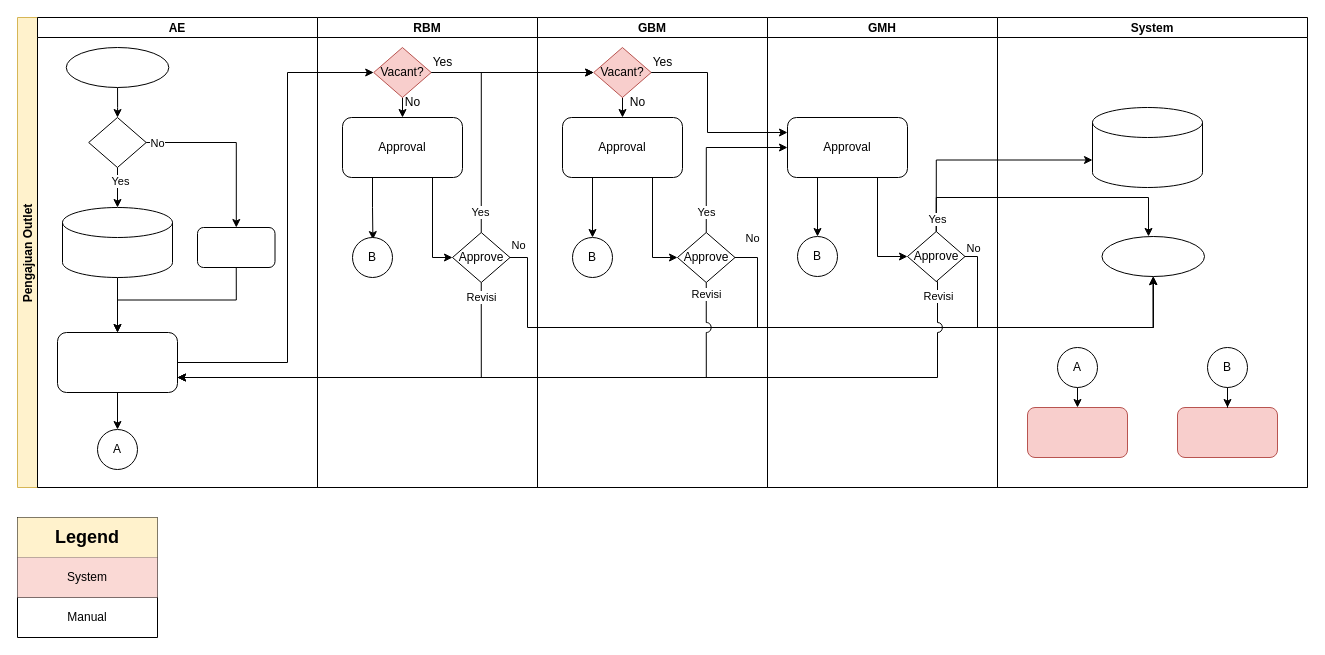
Some shapes in this 1325 by 655 pixel diagram are drawn without their labels. Each missing label, with the centre of its shape:
"Data Outlet EPM" goes at point 117,242.
"End" goes at point 1152,256.
"Input Baru" goes at point 235,247.
"Mapping Outlet" goes at point 1147,147.
"Mengajukan Outlet" goes at point 117,362.
"Notifikasi Approval Ke PIC" goes at point 1227,432.
"Notifikasi Pengajuan Ke atasan" goes at point 1077,432.
"Outlet EPM?" goes at point 117,142.
"Start" goes at point 117,67.
